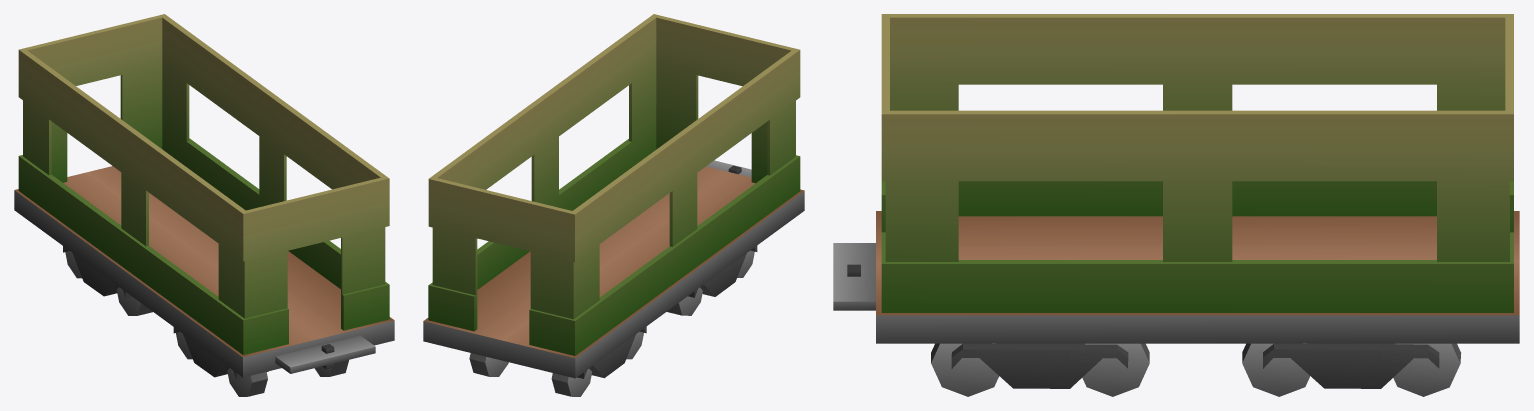
Rendered from Wagon_East.fbx.
3 views of the same model, side by side, from view 1: azimuth 30°, elevation 25°; view 2: azimuth 150°, elevation 25°; view 3: azimuth 270°, elevation 25° (orthographic). The views are drawn at different scales.
Parts seen in each view (by area): view 1: Body, Floor; view 2: Body, Floor; view 3: Body, Floor.
Boxes of the visible parts, left/top/right/bottom form: Body: left=18, top=14, right=389, bottom=355; Floor: left=14, top=166, right=394, bottom=396; Body: left=428, top=14, right=800, bottom=355; Floor: left=423, top=160, right=804, bottom=396; Body: left=881, top=14, right=1513, bottom=312; Floor: left=833, top=211, right=1519, bottom=396.
Bounding box in the file's own units: 341 × 455 × 949.
